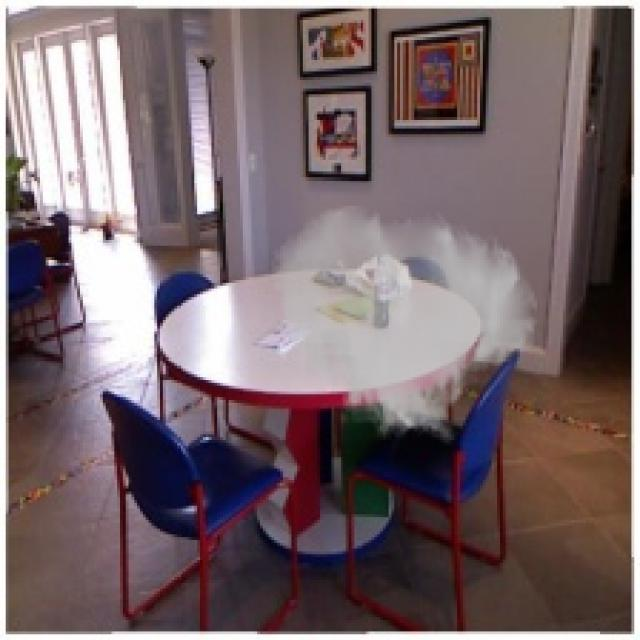smoke: (269, 203, 540, 446)
